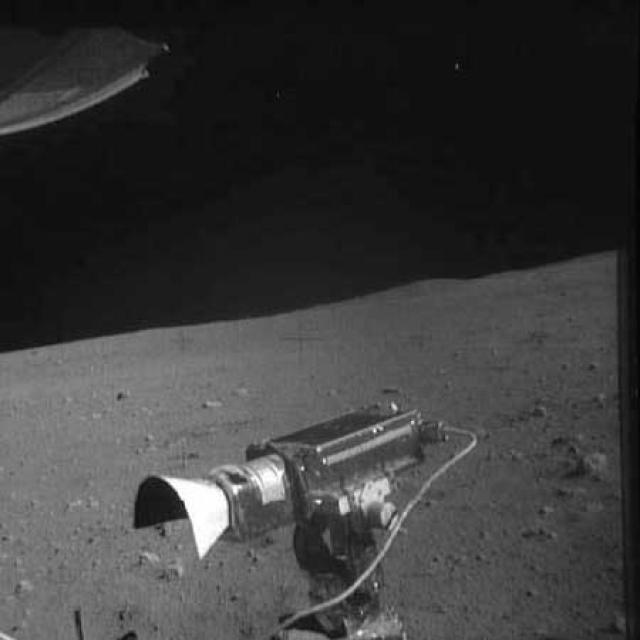rock: (570, 452, 607, 481), (551, 427, 590, 454), (157, 559, 195, 583), (132, 550, 168, 571), (380, 378, 413, 400), (551, 480, 590, 497), (11, 576, 38, 600), (606, 603, 624, 634), (227, 382, 250, 404), (11, 612, 32, 635), (533, 522, 559, 540), (586, 390, 608, 410), (502, 446, 531, 461), (107, 388, 131, 406), (136, 430, 158, 449), (203, 397, 226, 413), (534, 401, 552, 421), (538, 502, 563, 516), (584, 357, 602, 372)
